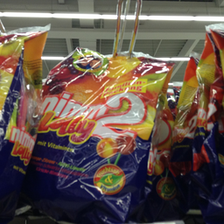candy: (40, 54, 167, 217)
